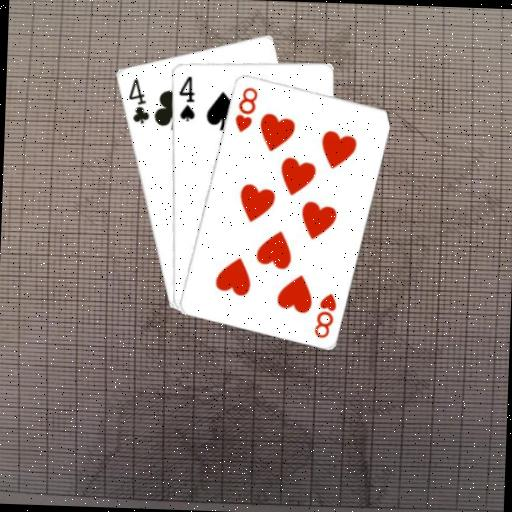4C: (124, 75, 152, 126)
4S: (174, 72, 197, 123)
8H: (230, 83, 259, 134), (310, 289, 338, 340)
